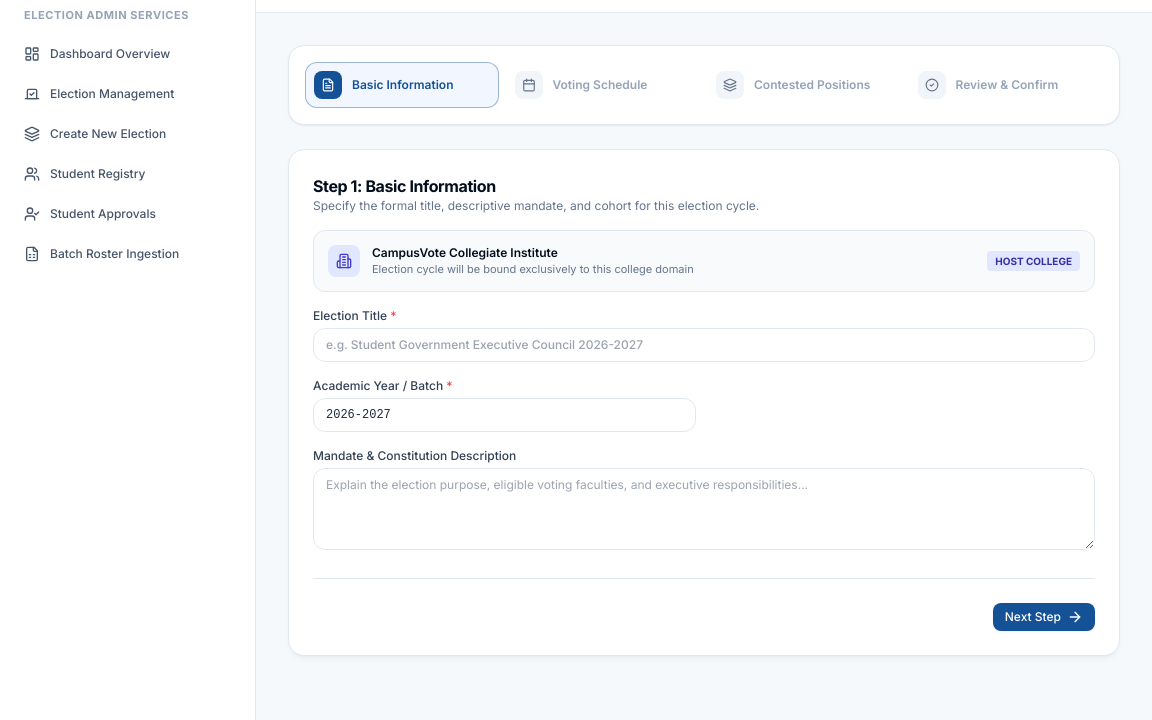
Test: Phase 3 Create Election Wizard › enforces required title on step 1 before proceeding to schedule
The image size is (1152, 720).
(page scrolled)
Expected: the heading "Step 1: Basic Information" is shown, [313,176,496,196]
Click the button "Next Step" at (1044, 617), box [993,603,1095,631]
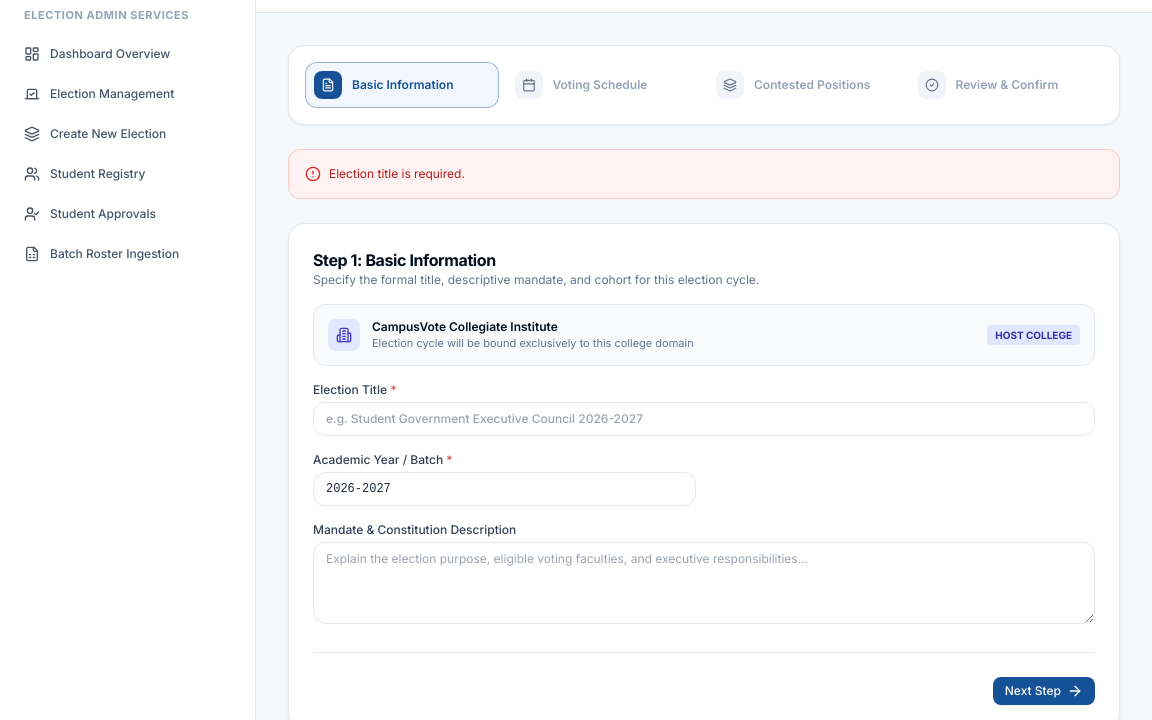
Result: the text "Election title is required." is shown at [329,166,465,182]
